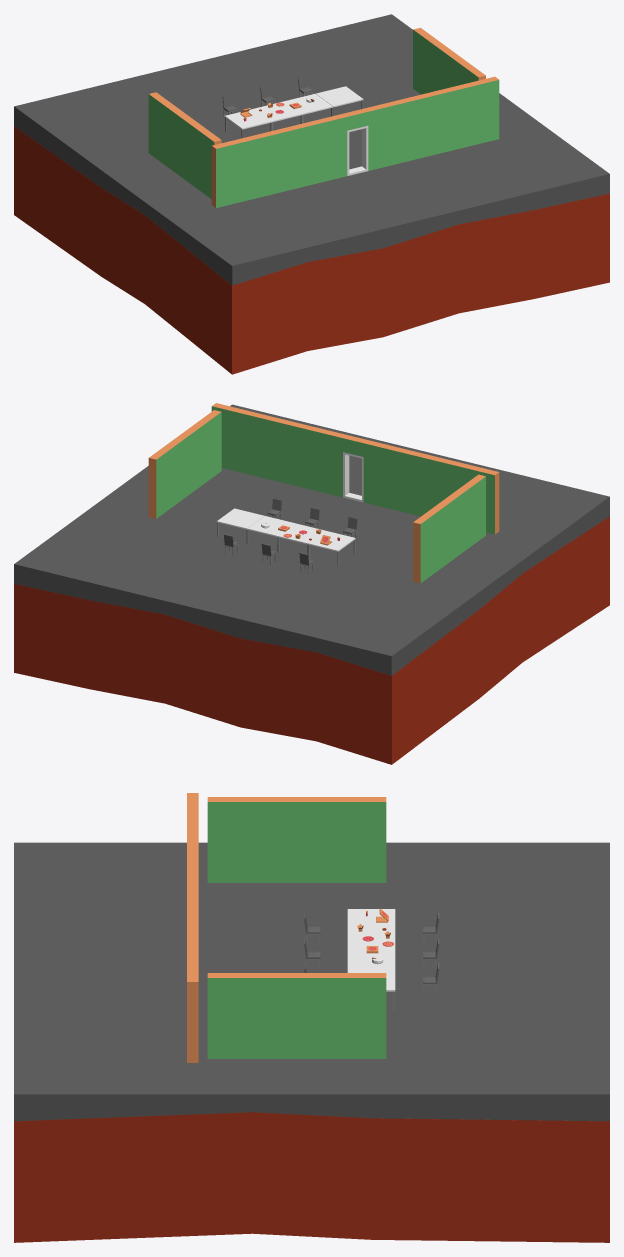
Rendered from MiniMundo_AulaClases.glb.
3 renders of one model, top to bottom at view 1: azimuth 30°, elevation 25°; view 2: azimuth 150°, elevation 25°; view 3: azimuth 270°, elevation 25°, orthographic. The views are drawn at different scales.
Visible parts, largest first — view 1: Cube (68).002, world-field (4).014, house-wall (116).001, house-wall (114).001, house-wall (98).001, house-wall (100).001, house-wall-door (27).002, house-wall (137).001, house-wall (135).001, house-wall (107).001, house-wall (103).001, table-dining (8).001 (+3 smaller); view 2: Cube (68).002, world-field (4).014, house-wall (101).001, house-wall (99).001, house-wall (115).001, house-wall-door (26).002, house-wall (137).001, house-wall (107).001, house-wall (103).001, house-wall (135).001, house-wall (117).001, table-dining (8).001 (+3 smaller); view 3: Cube (68).002, world-field (4).014, house-wall (134).001, house-wall (136).001, house-wall (102).001, house-wall (106).001, table-dining (5).001, table-dining (7).001, table-dining (6).001, house-wall (114).001, house-wall (115).001.
Boxes of the visible parts, <box> form: Cube (68).002: <box>14,14,609,285</box>; world-field (4).014: <box>14,126,609,374</box>; house-wall (116).001: <box>214,133,272,207</box>; house-wall (114).001: <box>441,78,499,152</box>; house-wall (98).001: <box>271,119,329,194</box>; house-wall (100).001: <box>384,92,442,166</box>; house-wall-door (27).002: <box>328,106,385,180</box>; house-wall (137).001: <box>148,93,184,176</box>; house-wall (135).001: <box>181,117,217,198</box>; house-wall (107).001: <box>413,28,449,94</box>; house-wall (103).001: <box>446,52,482,88</box>; table-dining (8).001: <box>316,86,363,115</box>; Cube (68).002: <box>14,404,609,675</box>; world-field (4).014: <box>14,516,609,764</box>; house-wall (101).001: <box>268,418,326,492</box>; house-wall (99).001: <box>381,446,439,516</box>; house-wall (115).001: <box>211,404,270,478</box>; house-wall-door (26).002: <box>325,432,383,506</box>; house-wall (137).001: <box>417,499,453,583</box>; house-wall (107).001: <box>152,435,188,518</box>; house-wall (103).001: <box>185,411,221,494</box>; house-wall (135).001: <box>450,475,485,559</box>; house-wall (117).001: <box>438,460,497,534</box>; table-dining (8).001: <box>217,508,264,543</box>; Cube (68).002: <box>14,842,609,1121</box>; world-field (4).014: <box>14,1112,609,1242</box>; house-wall (134).001: <box>207,799,296,882</box>; house-wall (136).001: <box>297,799,386,882</box>; house-wall (102).001: <box>207,975,296,1058</box>; house-wall (106).001: <box>297,975,386,1058</box>; table-dining (5).001: <box>347,949,395,969</box>; table-dining (7).001: <box>347,909,395,929</box>; table-dining (6).001: <box>347,929,395,949</box>; house-wall (114).001: <box>187,944,192,1062</box>; house-wall (115).001: <box>193,944,198,1062</box>.
Bounding box in the file's own units: 20.01 × 8.5 × 20.01.
